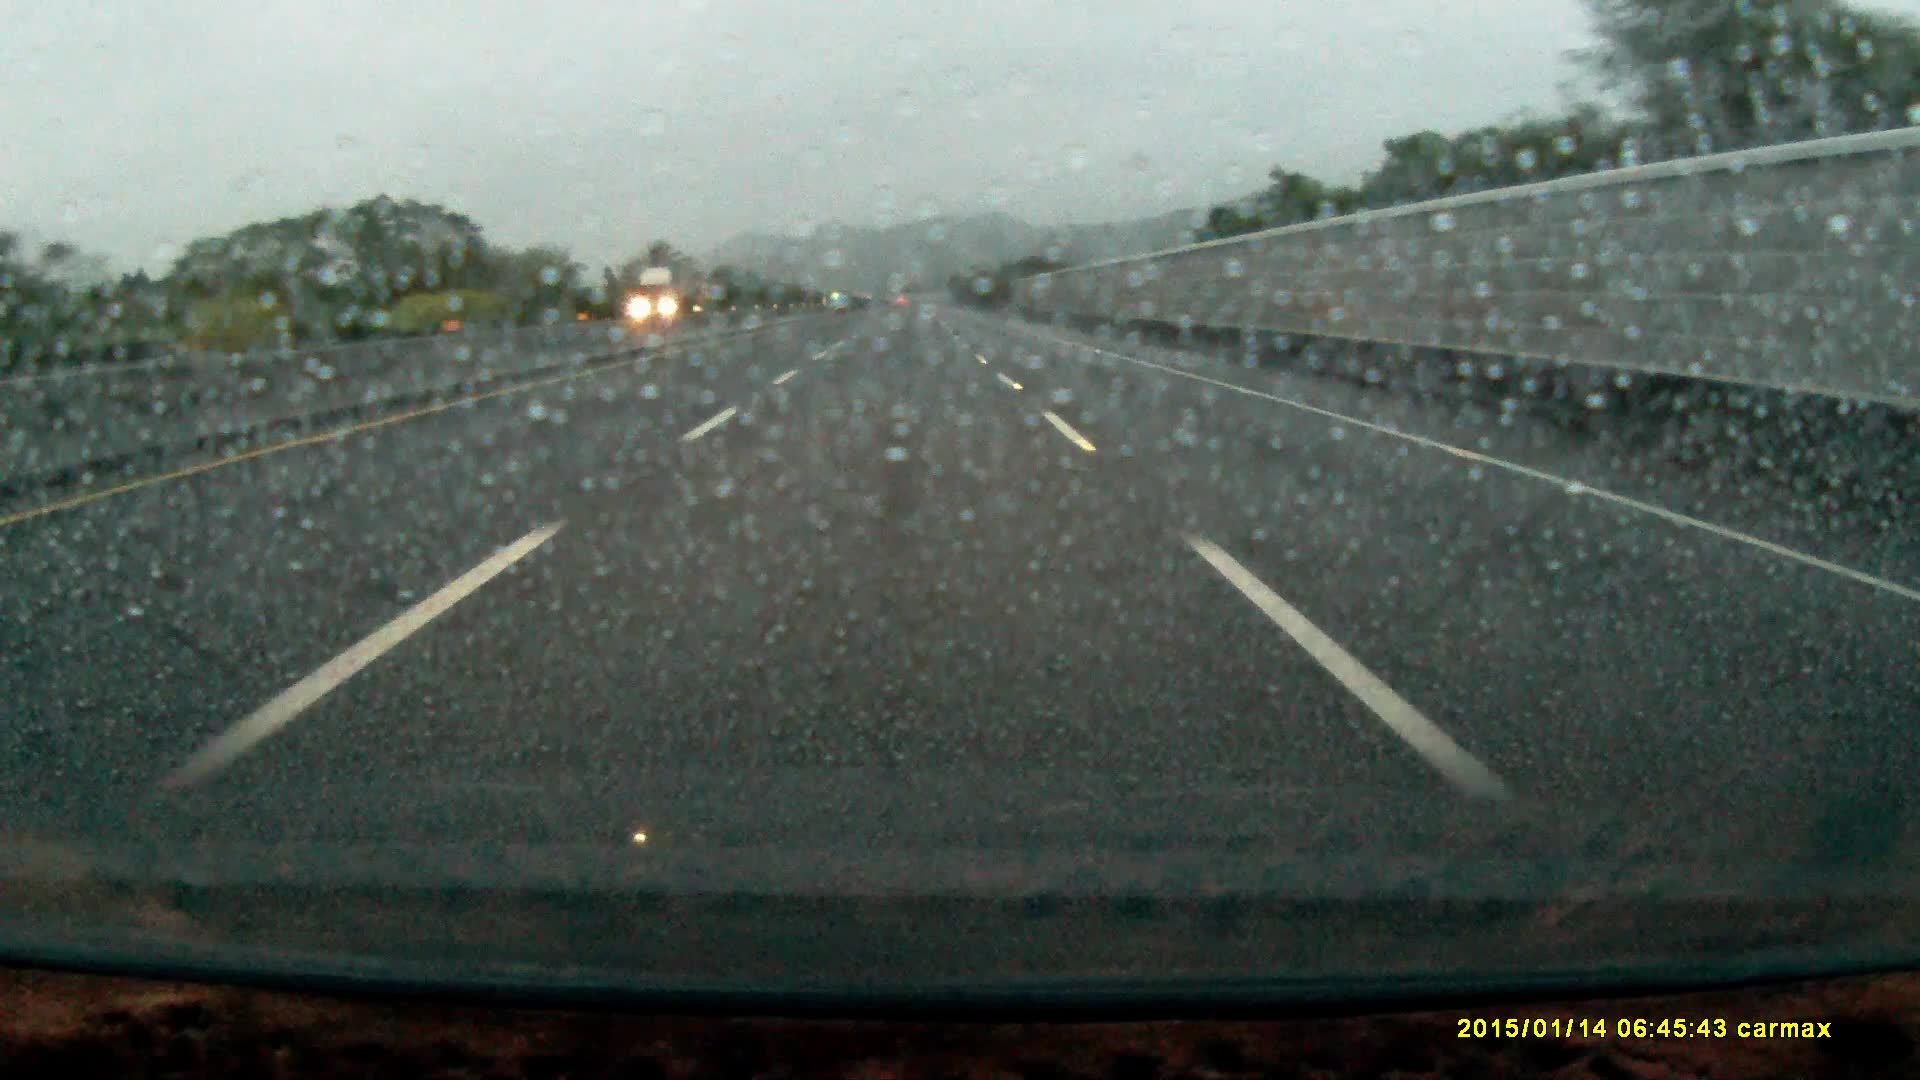vehicle: (630, 266, 704, 318)
